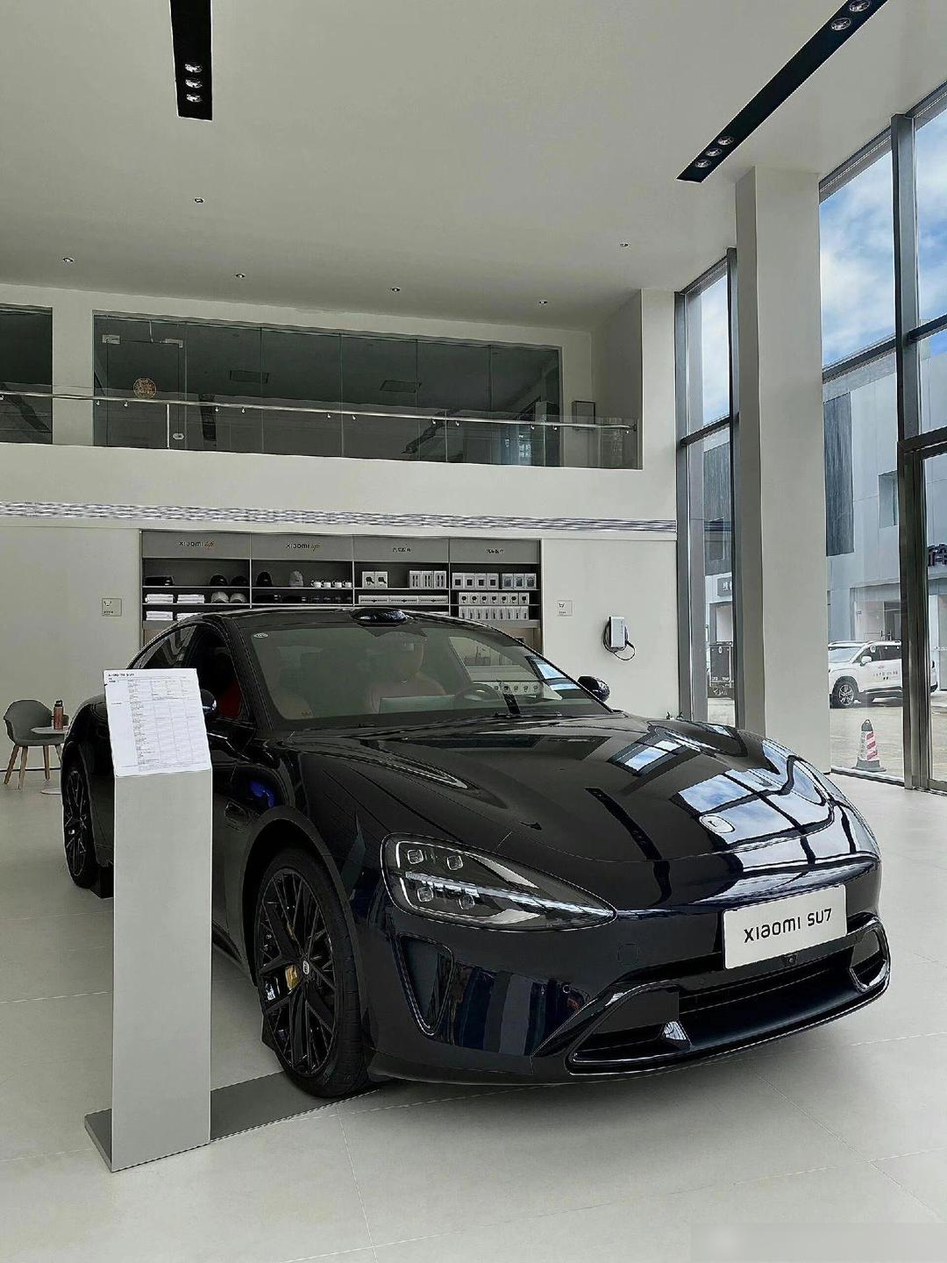su7: (62, 601, 894, 1119)
